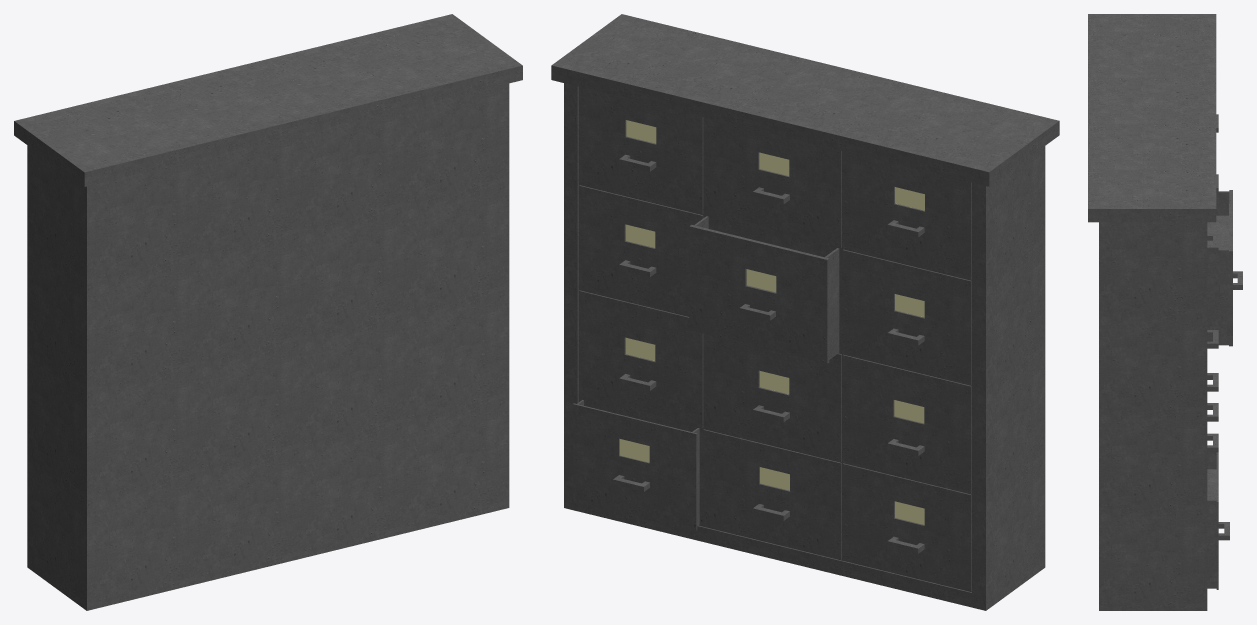
The model's file is filing_cabinet.glb.
3 views of the same model, side by side, from view 1: azimuth 30°, elevation 25°; view 2: azimuth 150°, elevation 25°; view 3: azimuth 270°, elevation 25° (orthographic). The views are drawn at different scales.
Visible parts, largest first — view 1: Material2; view 2: Material2 (×2); view 3: Material2.
Part boxes in pixels (bbox=[...]): Material2: bbox=[14, 14, 522, 610]; Material2 (×2): bbox=[551, 14, 1059, 610]; Material2: bbox=[1088, 14, 1242, 610].
Bounding box in the file's own units: 66.5 × 64.5 × 22.31.
Materials: 3 (1 with a texture image).
